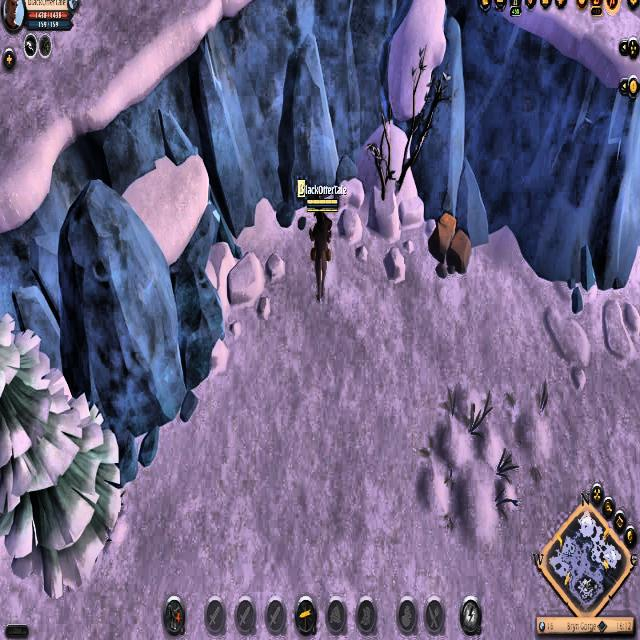limestone: (426, 208, 471, 278)
